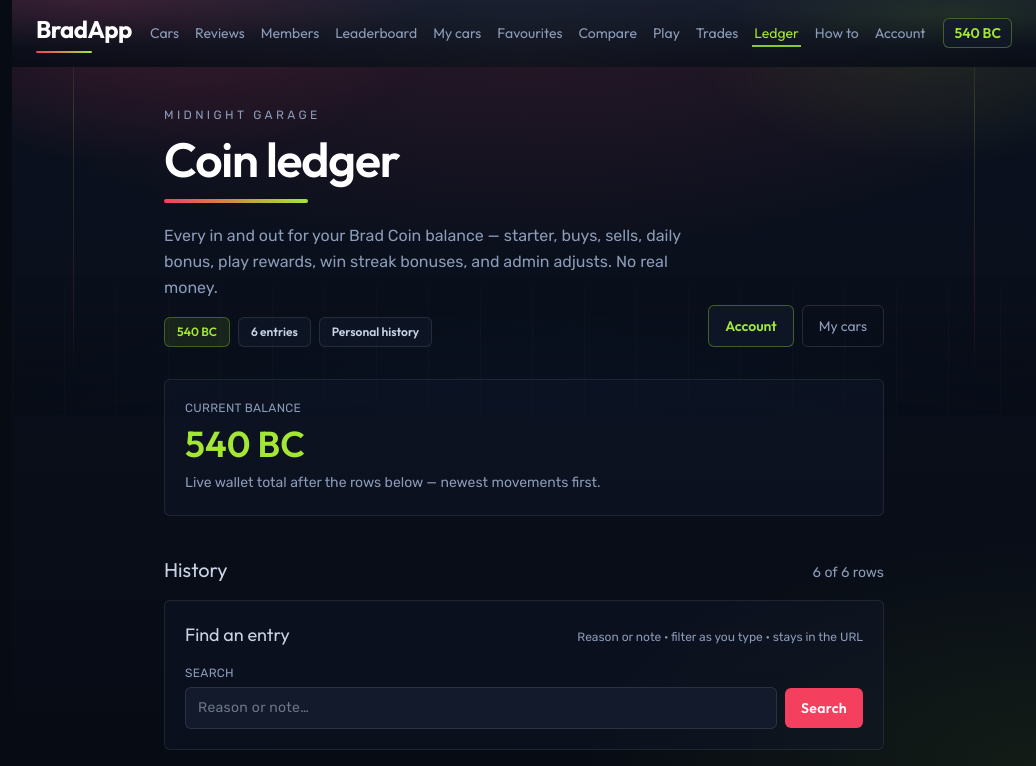
LedgerPage Midnight Garage UI › searches ledger by reason/note and keeps type in the URL
The width and height of the screenshot is (1036, 766).
Expected: the heading "Find an entry" is shown, [185,621,290,649]
In the search field named "Search ledger by reason or note": point(481, 708) [185,687,777,729], type "streak"
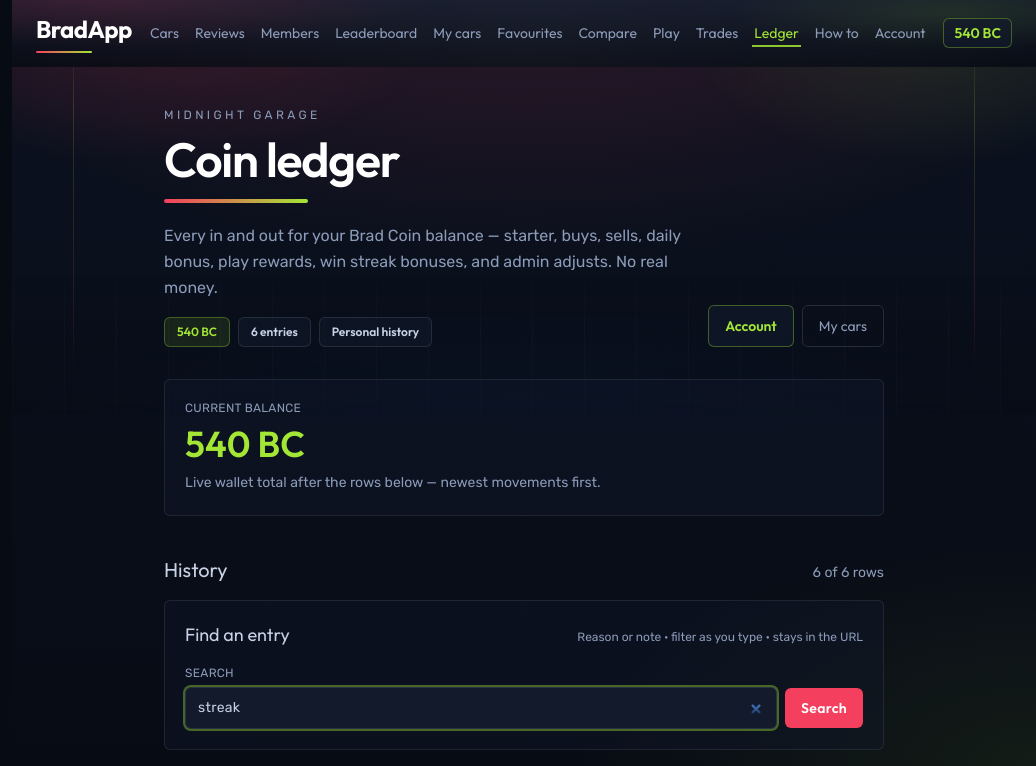
Click the button "Search": point(824, 708) [785,688,863,728]
(page scrolled)
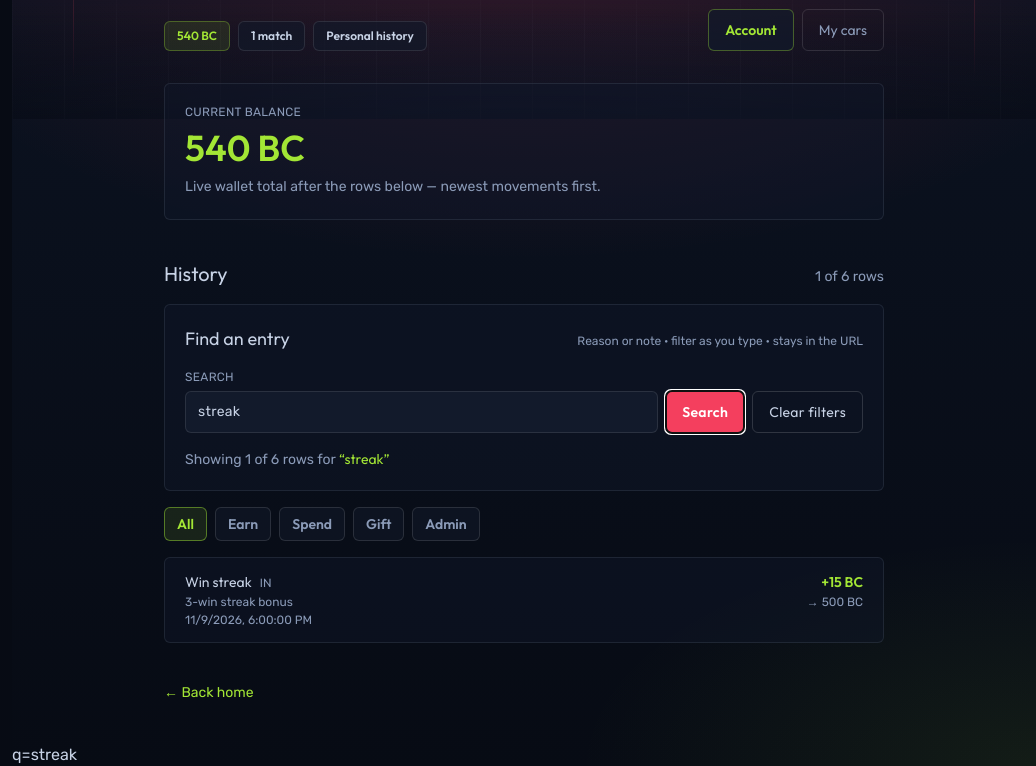
Expected: the list named "Brad Coin ledger entries" shows "Win streak", [185,573,252,591]
Expected: the text with test id "ledger-params" reads "q=streak", [12,745,77,764]
Click the button "Earn": point(243, 524) [215,507,271,541]
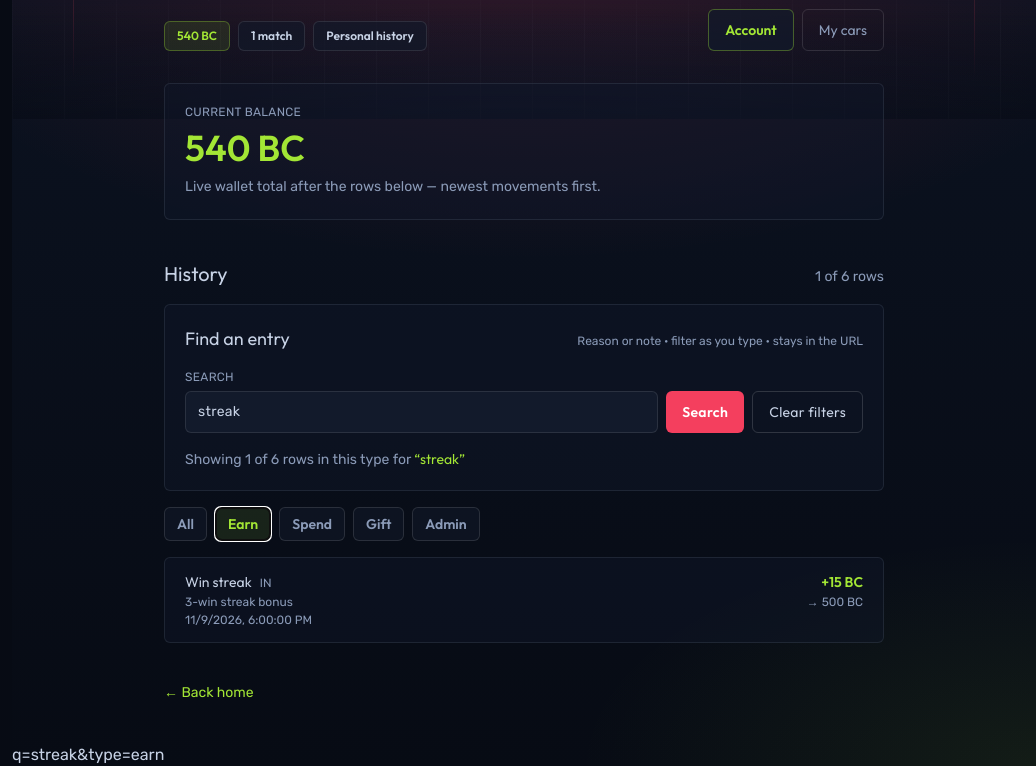
Expected: the list named "Brad Coin ledger entries" shows "Win streak", [185,573,252,591]
Expected: the text with test id "ledger-params" shows "q=streak", [12,745,164,764]
Expected: the text with test id "ledger-params" shows "type=earn", [12,745,164,764]
